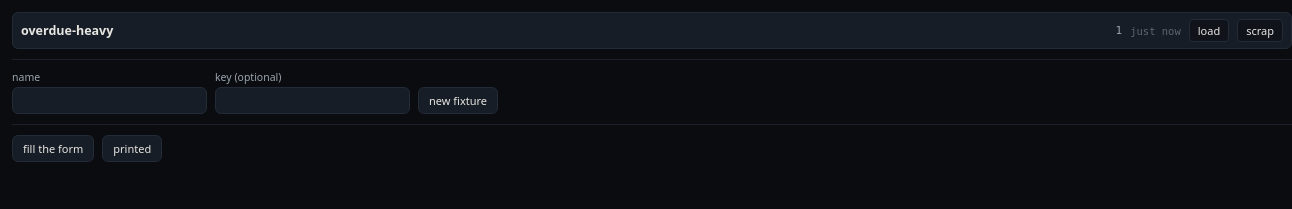
Test case: FixturePanel — load / unload › loading a fixture the plate does NOT confirm never claims "the plate answers from it" — says so honestly instead
The width and height of the screenshot is (1292, 209).
Click the button "load": (1209, 30) top-left (1189, 19), bottom-right (1229, 42)
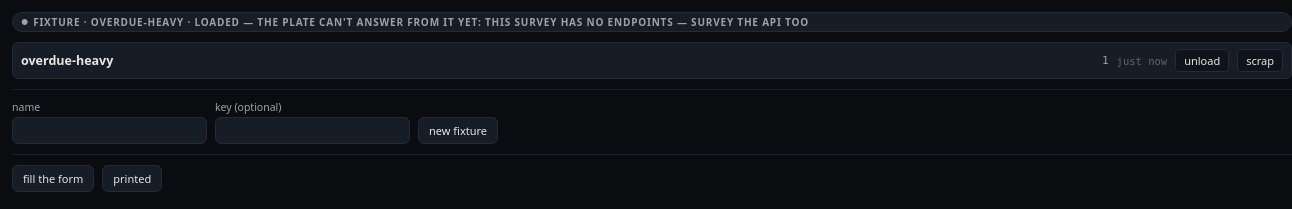
Expected: the text "survey the api too" is shown, top-left (33, 15), bottom-right (809, 29)
